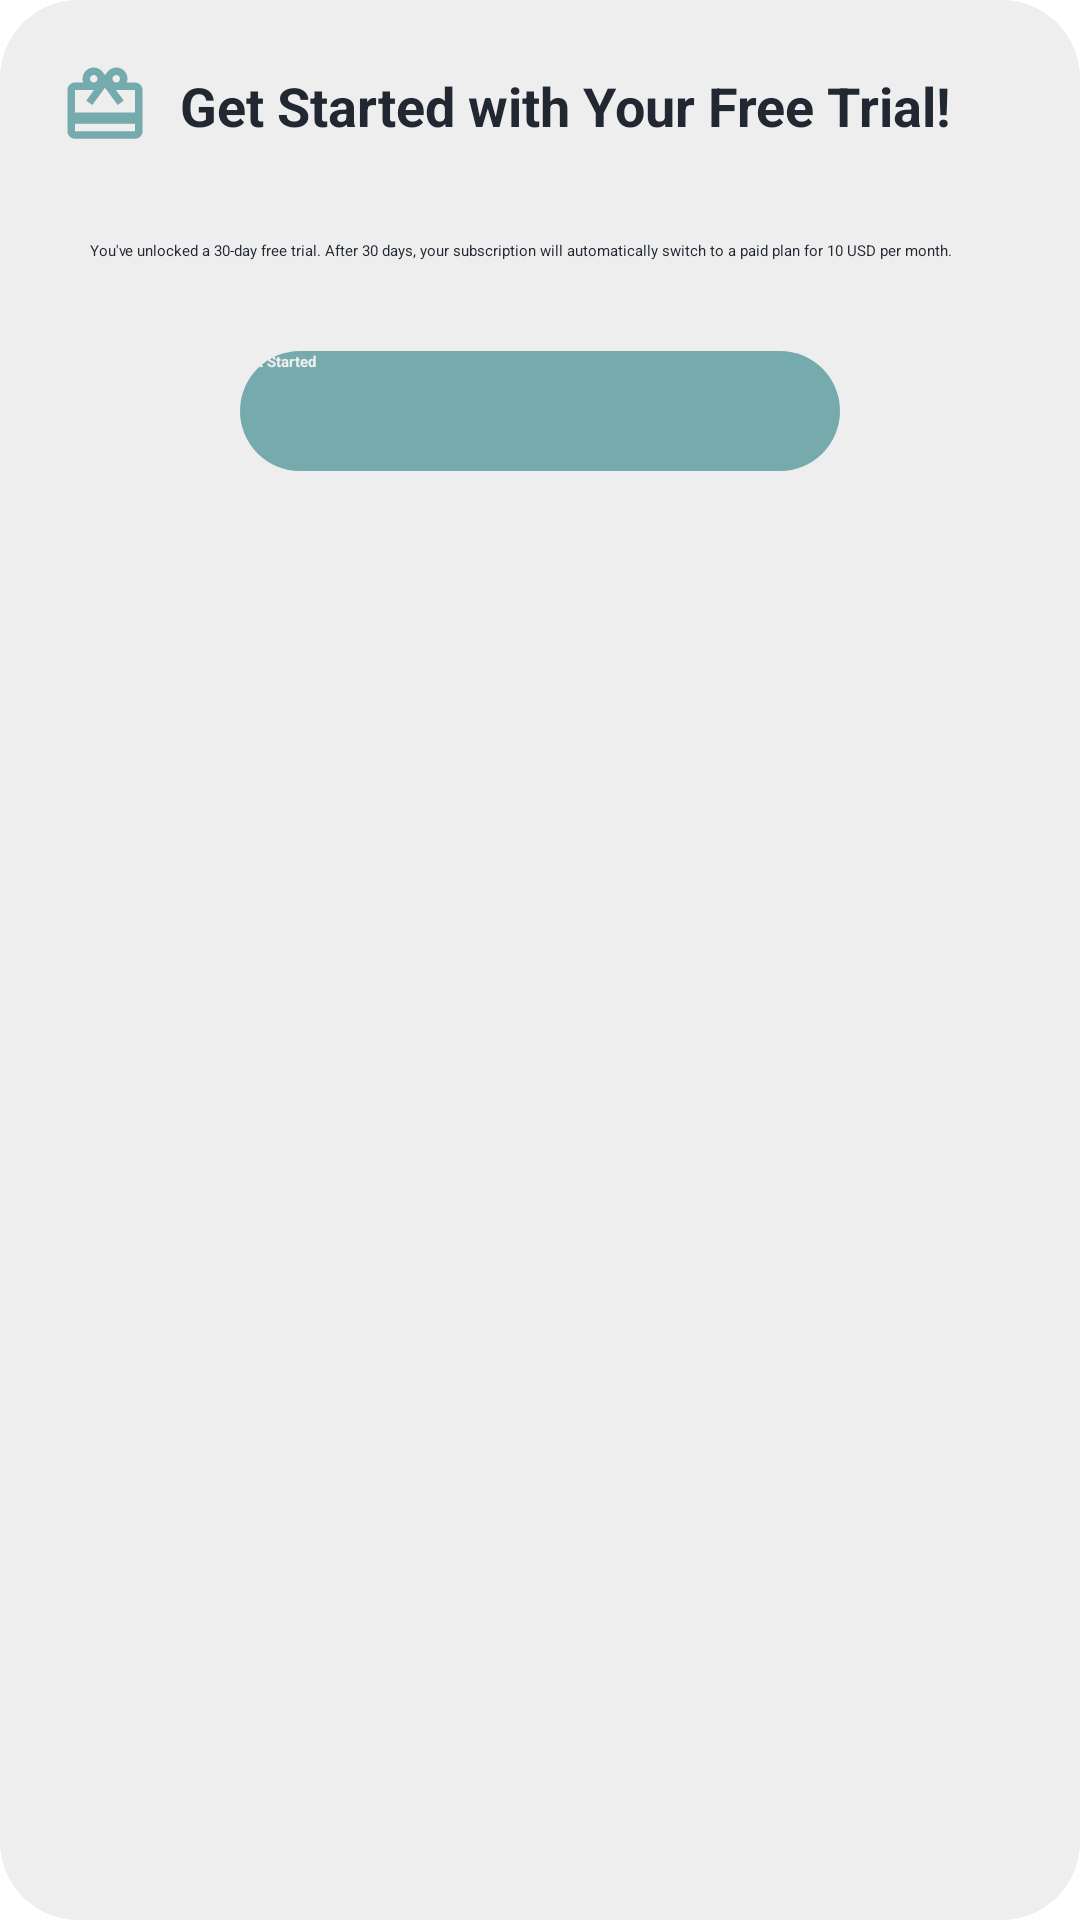

Point at icon controls on the screen. Image size 1080 x 1920, points as (x,y).
card giftcard: (105,103)
